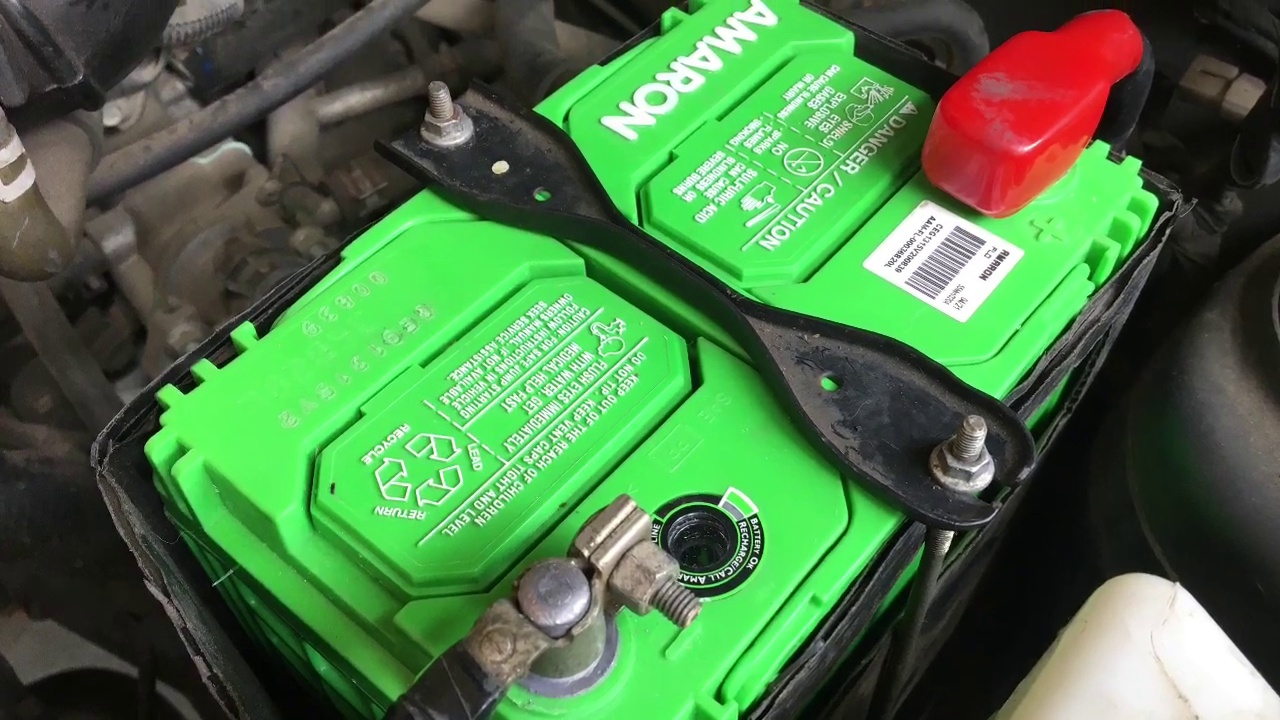battery: (170, 1, 1154, 720)
neg_connected: (434, 488, 706, 720)
pos_connected: (889, 13, 1168, 233)
